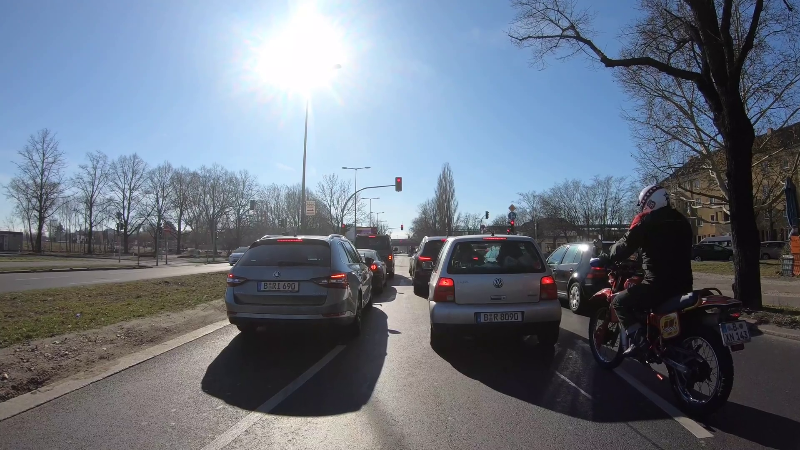Plate: (255, 277, 301, 295), (472, 310, 526, 324)
